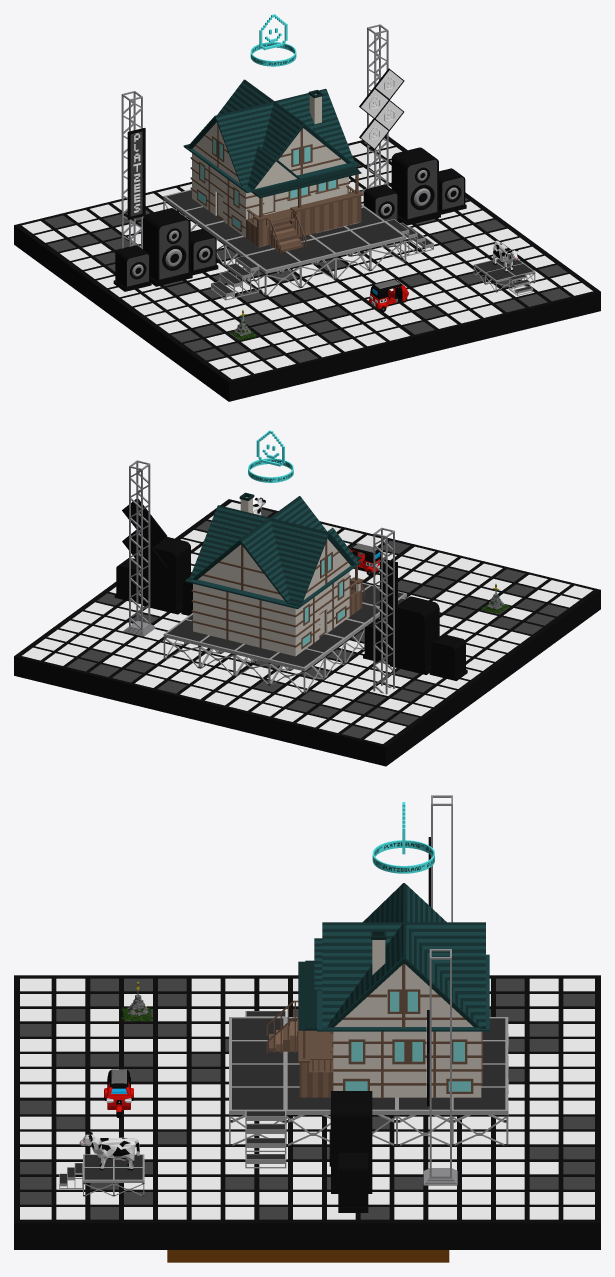
3 renders of one model, top to bottom at view 1: azimuth 30°, elevation 25°; view 2: azimuth 150°, elevation 25°; view 3: azimuth 270°, elevation 25°, orthographic. The views are drawn at different scales.
Visible parts, largest first — view 1: Cube.008, Cube.793, TYPE_PREMIUM, VEHICLES_TUC_TUC; view 2: Cube.008, Cube.793, TYPE_PREMIUM, VEHICLES_TUC_TUC; view 3: Cube.008, Cube.793, UNDERGROUND_ART_PIECE_VAN_GOGH, TYPE_PREMIUM, ANIMAL_VACA, VEHICLES_TUC_TUC.
Part boxes in pixels (x1,y1,x2,y2): Cube.008: (14, 24, 600, 401); Cube.793: (183, 79, 363, 253); TYPE_PREMIUM: (250, 14, 296, 66); VEHICLES_TUC_TUC: (368, 279, 408, 312); Cube.008: (14, 460, 600, 766); Cube.793: (185, 492, 364, 656); TYPE_PREMIUM: (248, 430, 293, 482); VEHICLES_TUC_TUC: (349, 543, 380, 575); Cube.008: (14, 795, 600, 1249); Cube.793: (266, 883, 489, 1098); UNDERGROUND_ART_PIECE_VAN_GOGH: (167, 1250, 449, 1262); TYPE_PREMIUM: (372, 802, 434, 873); ANIMAL_VACA: (79, 1132, 139, 1170); VEHICLES_TUC_TUC: (104, 1069, 133, 1117).
Size of the model in its own units: 4000 by 2637 by 4000.
Materials: 40 (4 with a texture image).
